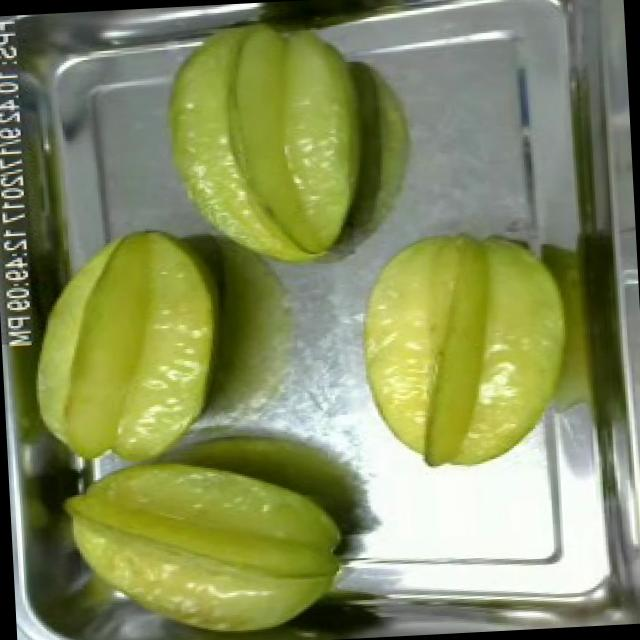fruit: (42, 422, 363, 640), (150, 1, 388, 284), (347, 213, 586, 482), (10, 215, 234, 486)
